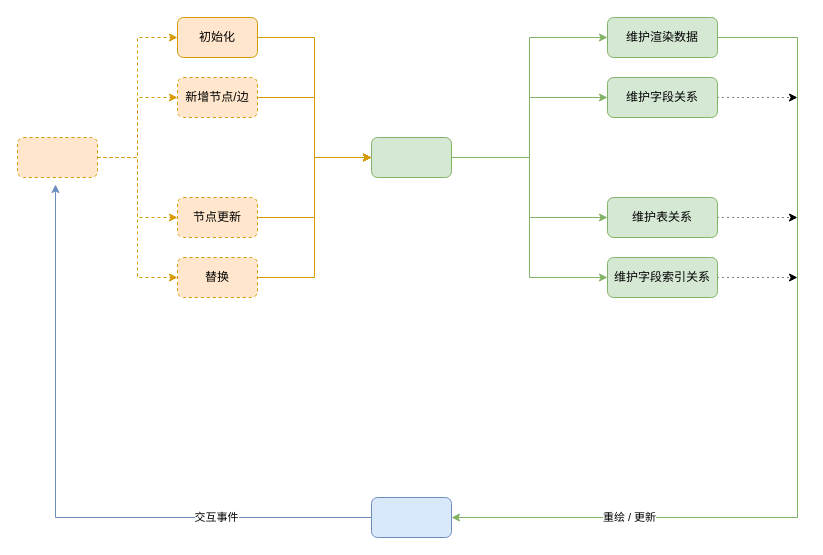
The diagram is 823 pixels wide and 555 high, and some of its shapes have lost their labels. The shapes that lost their labels are listed below. From the top down, each one's centre as x and y in pixels, then its label:
the point at 57,157: 输入数据变更
the point at 411,157: 数据转换和维护
the point at 411,517: G6 画布
